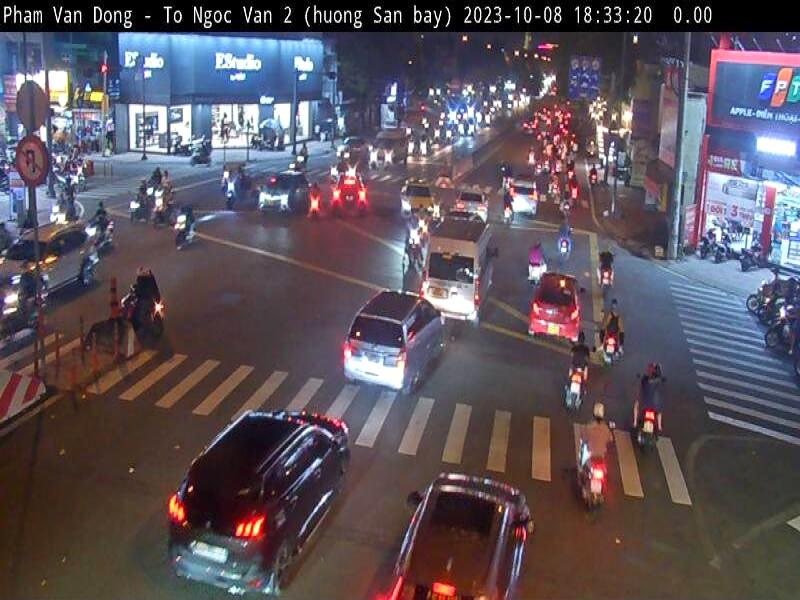car: (167, 409, 352, 598), (383, 472, 533, 600), (343, 292, 447, 392), (0, 216, 98, 304), (418, 216, 492, 326), (528, 270, 584, 348), (258, 169, 310, 216), (399, 182, 437, 221)
